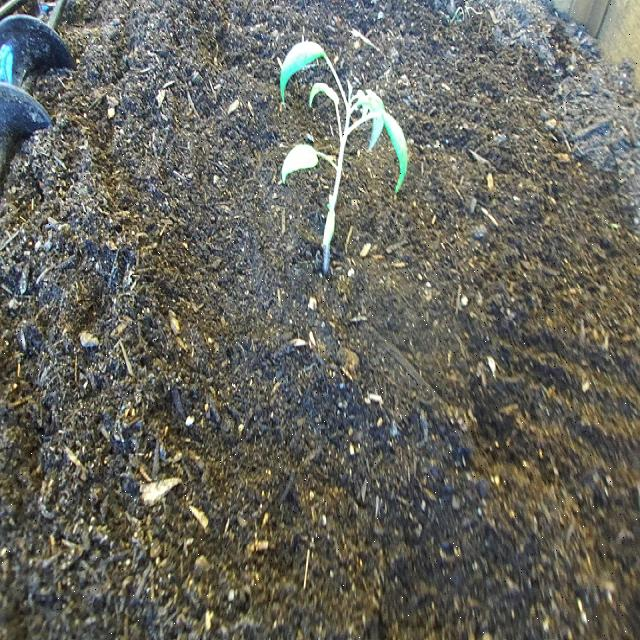Healthy: (267, 18, 421, 288)
